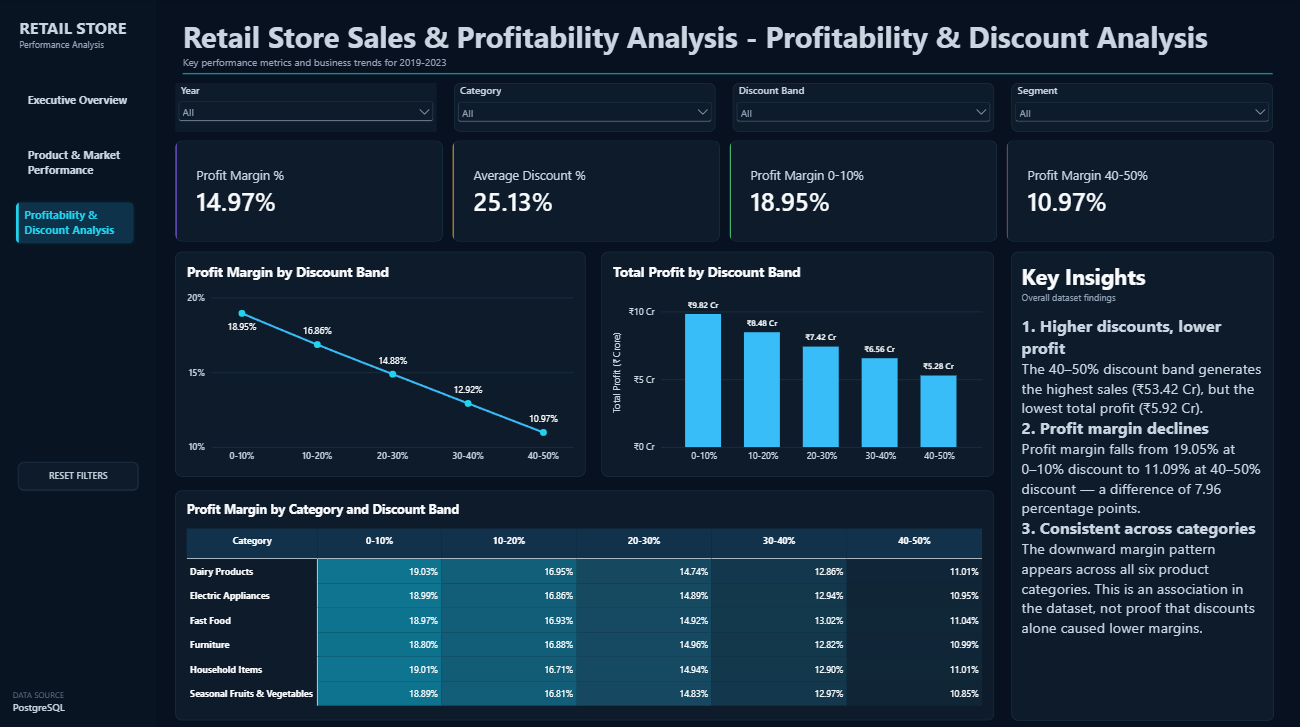

Layout of this report page (visuals, bound fields, positions):
{"tool":"powerbi","page":{"name":"Profitability & Discount Analysis","canvas":[1920,1080],"ordinal":2},"visuals":[{"type":"shape","box":[0,0,230,1080],"z":0},{"type":"textbox","box":[25.8,23.9,178.5,76],"z":1000},{"type":"pageNavigator","box":[20.2,112.3,189.6,262],"z":2000},{"type":"slicer","fields":{"Values":["DimDate.Year"]},"box":[260,125,385,72],"z":3000},{"type":"slicer","fields":{"Values":["FactSales.category"]},"box":[670.1,125,385,72],"z":4000},{"type":"slicer","fields":{"Values":["FactSales.segment"]},"box":[1490,125,385,72],"z":6000},{"type":"actionButton","box":[27.6,682.8,178.7,42.8],"z":7000},{"type":"textbox","box":[270.6,27.6,1604.9,57.1],"z":8000},{"type":"textbox","box":[270,85,950,28],"z":9000},{"type":"shape","box":[270.6,88.3,1604.9,46],"z":10000},{"type":"textbox","box":[20.2,1016,110.4,47.9],"z":11000},{"type":"slicer","fields":{"Values":["FactSales.Discount Band"]},"box":[1080.2,125.2,384.7,71.8],"z":12000},{"type":"lineChart","title":"Profit Margin by Discount Band","fields":{"Category":["FactSales.Discount Band"],"Y":["FactSales.Profit Margin %"]},"box":[259.5,373.6,603.7,331.3],"z":13000},{"type":"clusteredColumnChart","title":"Total Profit by Discount Band","fields":{"Category":["FactSales.Discount Band"],"Y":["FactSales.Total Profit"]},"box":[887.1,373.6,577.9,331.3],"z":14000},{"type":"pivotTable","title":"Profit Margin by Category and Discount Band","fields":{"Columns":["FactSales.Discount Band"],"Rows":["FactSales.category"],"Values":["FactSales.Profit Margin %"]},"box":[259.5,725.2,1205.5,338.7],"z":15000},{"type":"cardVisual","fields":{"Data":["FactSales.Profit Margin %","FactSales.Average Discount %","FactSales.Profit Margin 0-10%","FactSales.Profit Margin 40-50%"]},"box":[259.5,209.8,1618,149.1],"z":16000},{"type":"textbox","box":[1490.8,373.6,386.5,690.2],"z":17000}]}

Visuals, with their boxes on the page's 1920x1080 design canvas (x1, y1, x2, y2). These are canvas units, not pixel positions in the 1300x727 screenshot, which may show the page scaled, cropped or inside an application window:
shape: 0,0,230,1080
textbox: 26,24,204,100
pageNavigator: 20,112,210,374
slicer - DimDate.Year: 260,125,645,197
slicer - FactSales.category: 670,125,1055,197
slicer - FactSales.segment: 1490,125,1875,197
actionButton: 28,683,206,726
textbox: 271,28,1876,85
textbox: 270,85,1220,113
shape: 271,88,1876,134
textbox: 20,1016,131,1064
slicer - FactSales.Discount Band: 1080,125,1465,197
"Profit Margin by Discount Band" lineChart: 260,374,863,705
"Total Profit by Discount Band" clusteredColumnChart: 887,374,1465,705
"Profit Margin by Category and Discount Band" pivotTable: 260,725,1465,1064
cardVisual - FactSales.Profit Margin % x FactSales.Average Discount %: 260,210,1878,359
textbox: 1491,374,1877,1064
